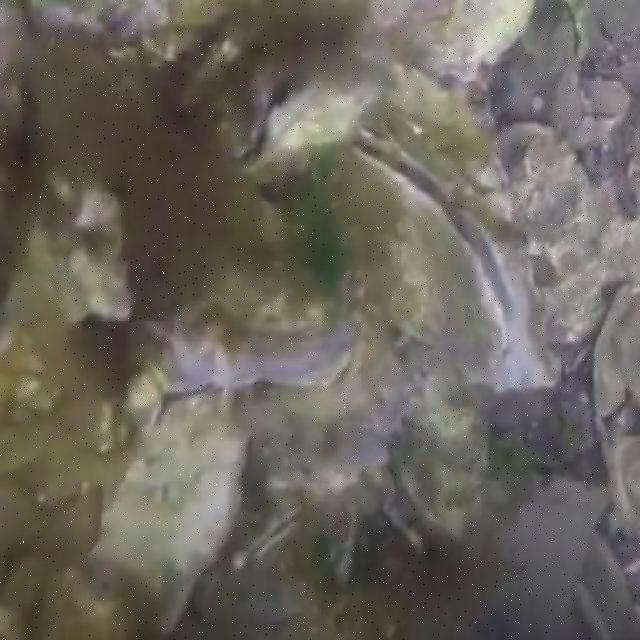Oyster-Closed: (88, 394, 250, 634)
Oyster-Open: (302, 122, 520, 382), (135, 198, 360, 394), (177, 51, 374, 181), (233, 504, 303, 577), (379, 495, 441, 556), (330, 493, 355, 588)
